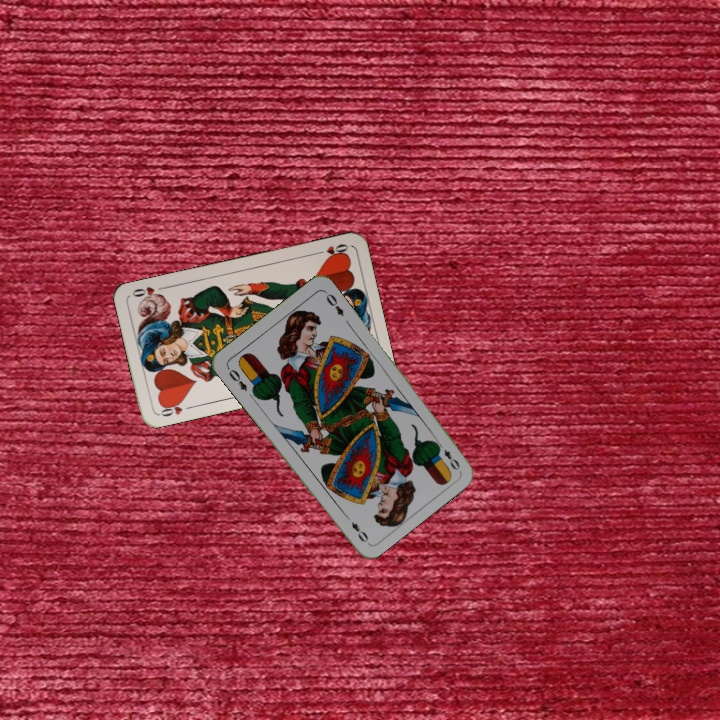EO: (433, 438, 463, 473), (223, 363, 250, 394)
HO: (155, 397, 195, 419), (311, 240, 351, 260)
